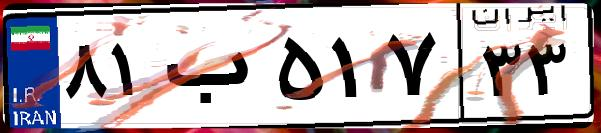1: (330, 28, 385, 110), (110, 28, 158, 98)
3: (475, 38, 525, 113), (525, 38, 570, 115)
5: (270, 28, 330, 110)
7: (385, 28, 445, 110)
8: (57, 26, 110, 100)
ب: (158, 20, 270, 120)
